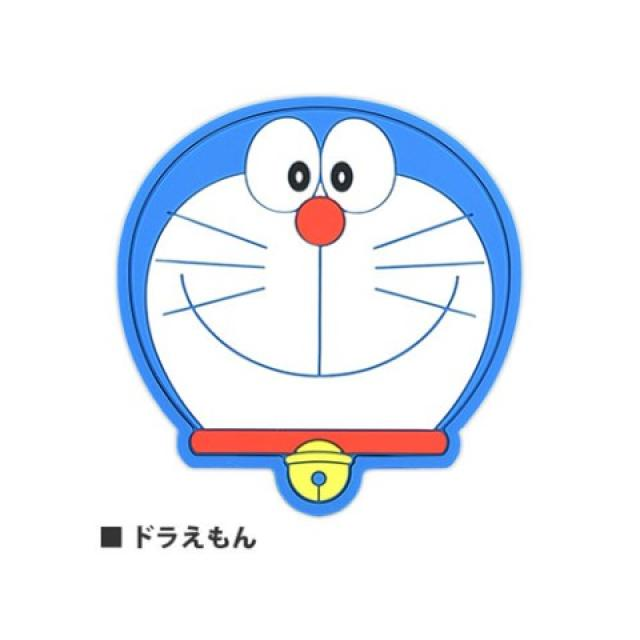doraemon: (109, 67, 547, 549)
